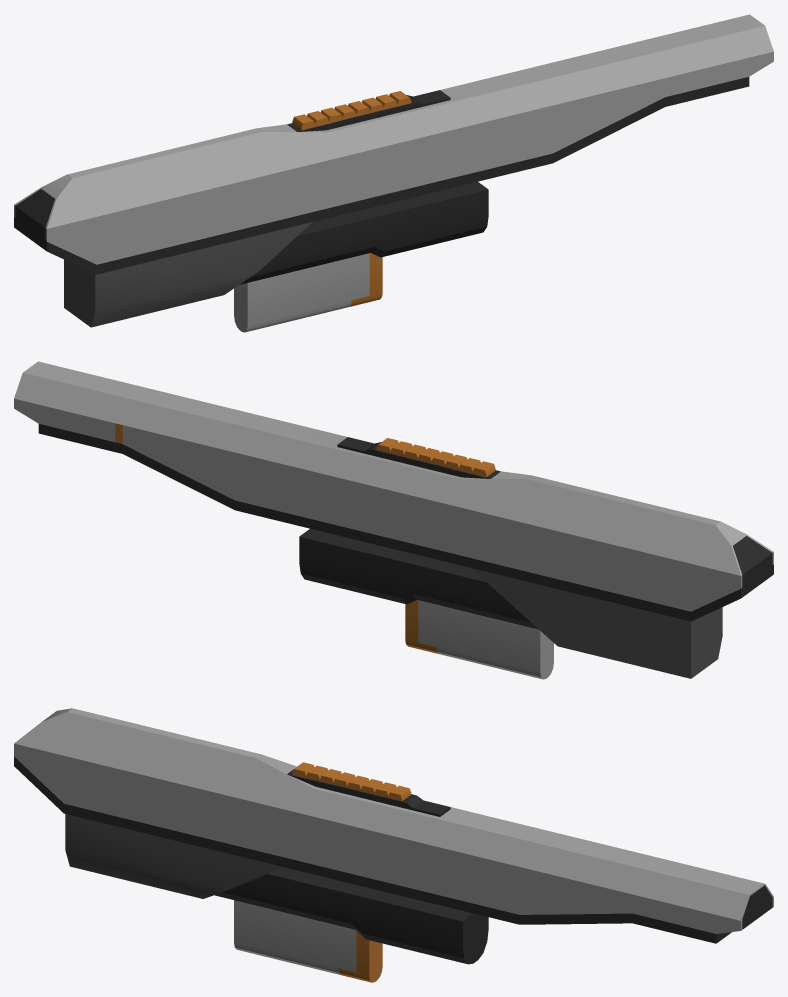
The model's file is quaternius-modular-sci-fi-guns-body-front-sniper-3.glb.
3 views of the same model, one above another, from view 1: azimuth 30°, elevation 25°; view 2: azimuth 150°, elevation 25°; view 3: azimuth 330°, elevation 25° (orthographic).
Visible parts, largest first — view 1: Body_Front_Sniper_3; view 2: Body_Front_Sniper_3; view 3: Body_Front_Sniper_3.
Part boxes in pixels (x1,y1,x2,y2): Body_Front_Sniper_3: (14,14,773,332); Body_Front_Sniper_3: (14,361,773,679); Body_Front_Sniper_3: (14,708,773,982).
Bounding box in the file's own units: 1.2 × 0.3117 × 0.0946.
